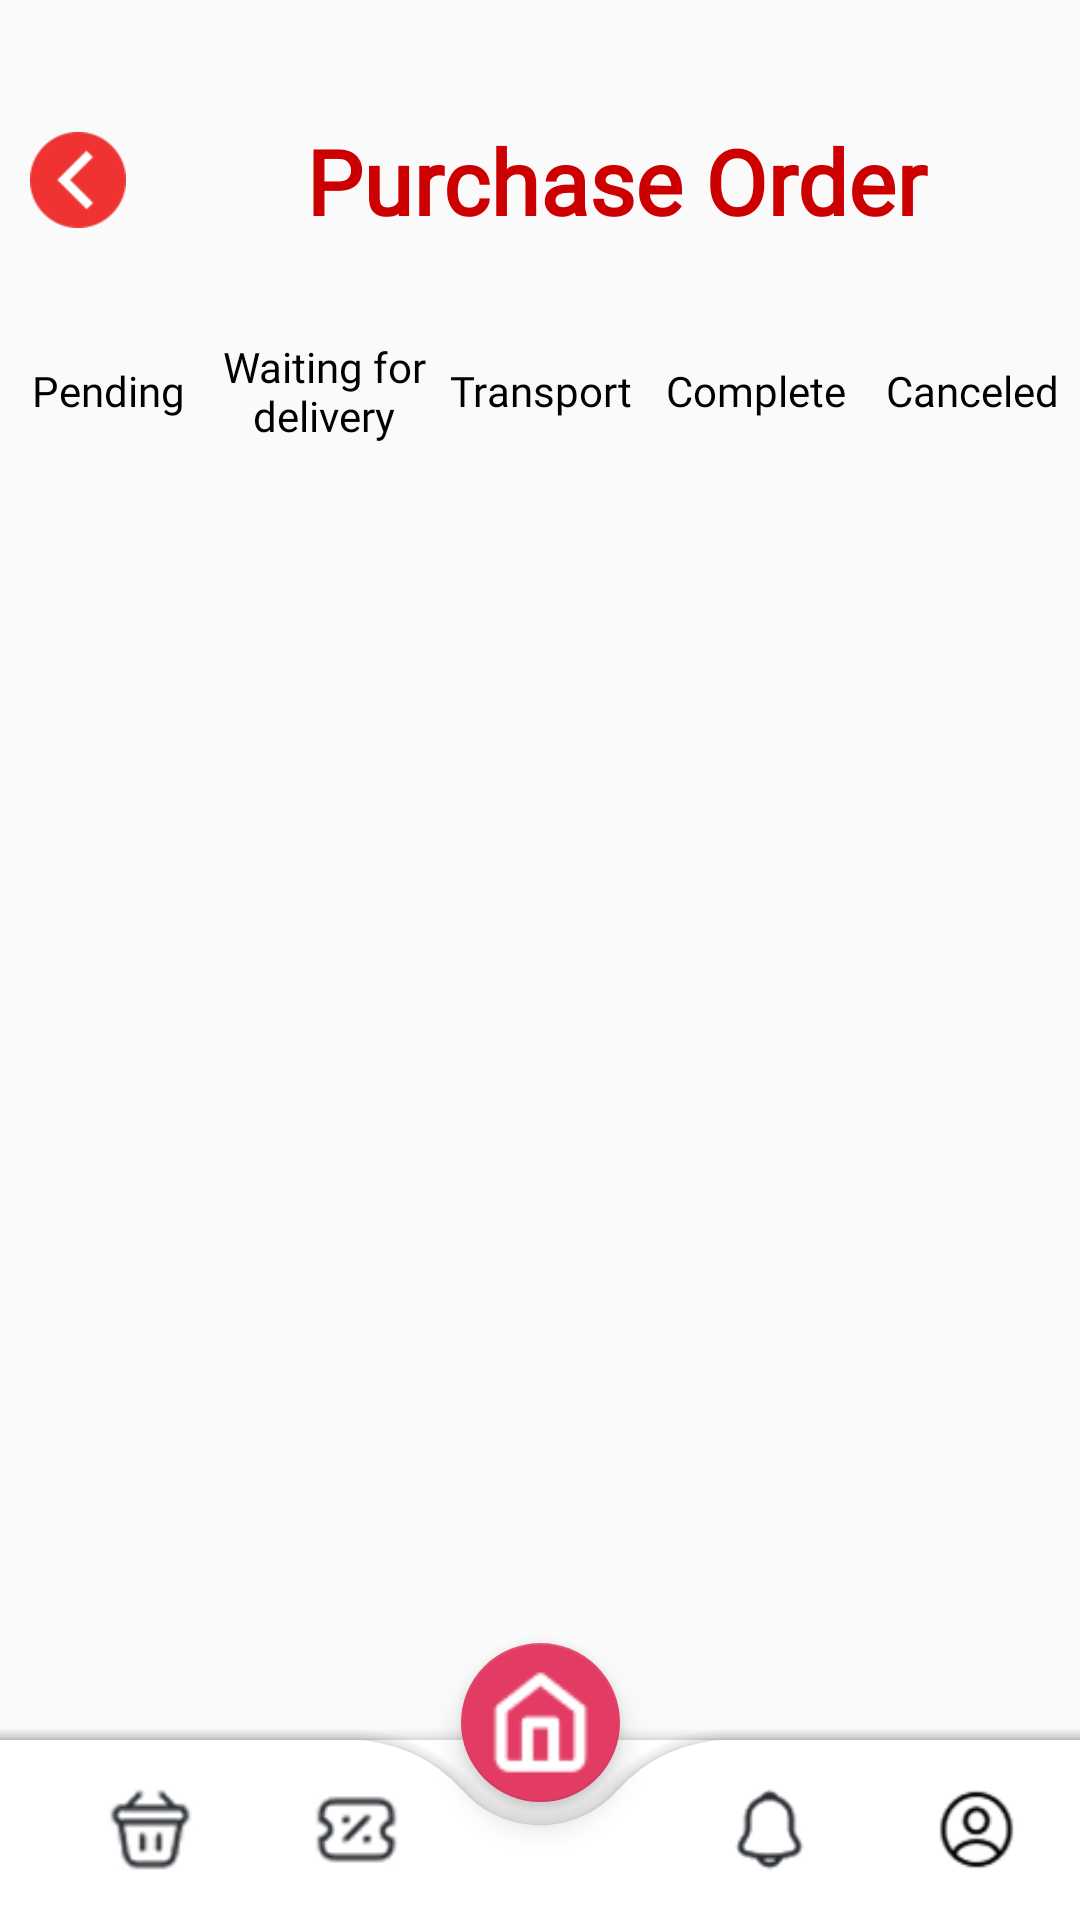

Icon bounding boxes for this 1080x1920 phone screenshot, format bbox=[x1, y1, x2, y2]:
account: bbox=[940, 1791, 1013, 1868]
Arrow: bbox=[30, 132, 126, 228]
cart: bbox=[111, 1790, 191, 1870]
home: bbox=[461, 1661, 620, 1820]
notification: bbox=[736, 1789, 803, 1870]
voucher: bbox=[316, 1796, 397, 1863]
